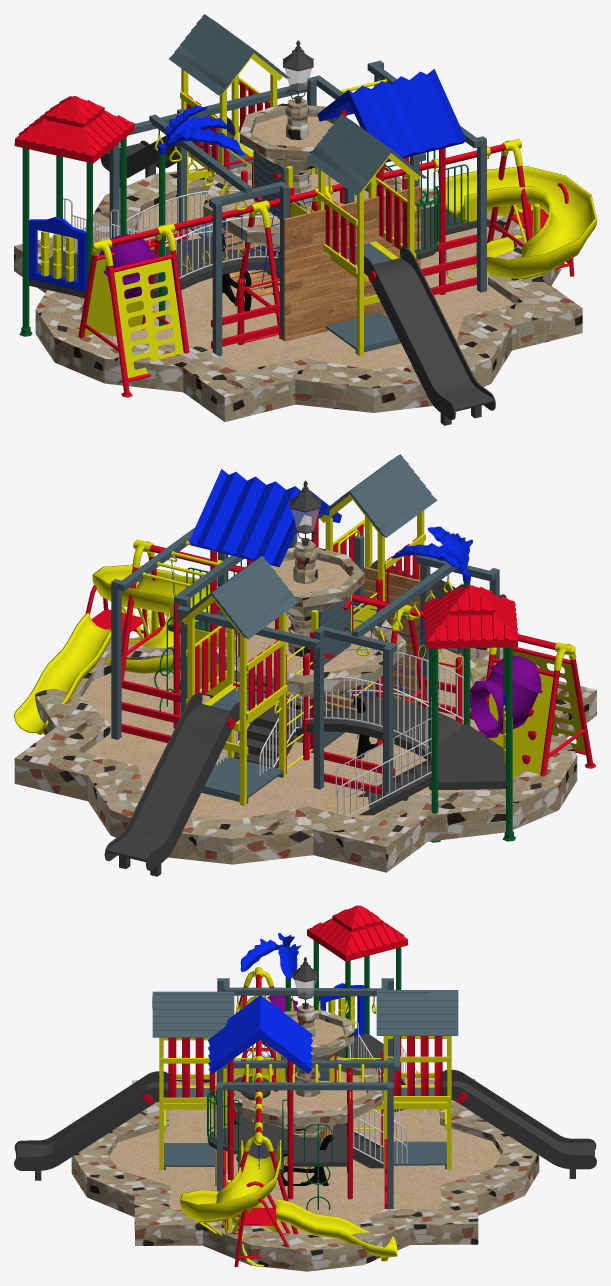
Rendered from jingguan0102.fbx.
The picture shows the model from 3 angles, top to bottom: view 1: azimuth 30°, elevation 25°; view 2: azimuth 150°, elevation 25°; view 3: azimuth 270°, elevation 25°; orthographic projection. The views are drawn at different scales.
Parts seen in each view (by area): view 1: polySurface874, polySurface442, polySurface869, polySurface870, polySurface664, polySurface875, polySurface15; view 2: polySurface874, polySurface442, polySurface869, polySurface870, polySurface664, polySurface15, polySurface875; view 3: polySurface874, polySurface869, polySurface442, polySurface870, polySurface664, polySurface875, polySurface15.
Boxes of the visible parts, <box> form: polySurface874: <box>14,98,582,421</box>; polySurface442: <box>14,69,596,344</box>; polySurface869: <box>100,14,495,425</box>; polySurface870: <box>109,60,486,356</box>; polySurface664: <box>78,139,574,397</box>; polySurface875: <box>222,230,279,311</box>; polySurface15: <box>283,40,313,103</box>; polySurface874: <box>14,541,596,872</box>; polySurface442: <box>92,469,542,842</box>; polySurface869: <box>104,454,506,876</box>; polySurface870: <box>111,527,499,799</box>; polySurface664: <box>14,539,595,777</box>; polySurface15: <box>289,480,321,545</box>; polySurface875: <box>277,694,378,759</box>; polySurface874: <box>71,1005,539,1271</box>; polySurface869: <box>14,990,596,1180</box>; polySurface442: <box>180,905,430,1266</box>; polySurface870: <box>215,978,399,1208</box>; polySurface664: <box>221,967,397,1266</box>; polySurface875: <box>280,1127,333,1185</box>; polySurface15: <box>292,957,318,1008</box>.
Bounding box in the file's own units: 72.84 × 37.43 × 90.78.
Materials: 13 (3 with a texture image).
